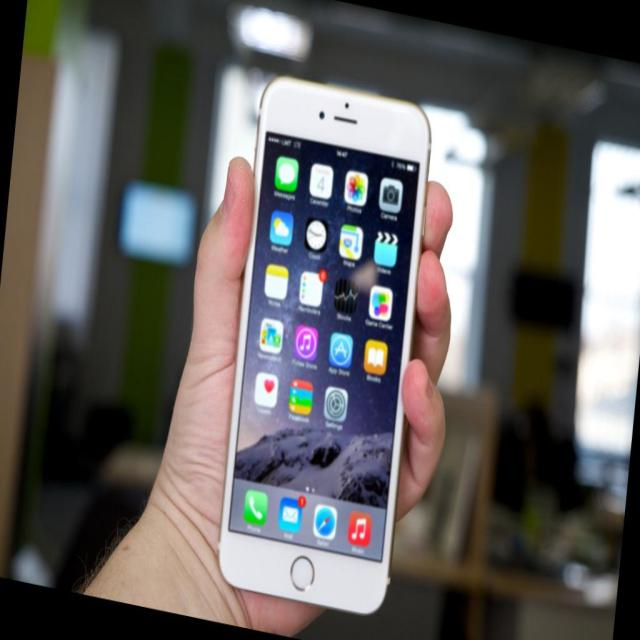handphone: (219, 75, 434, 607)
